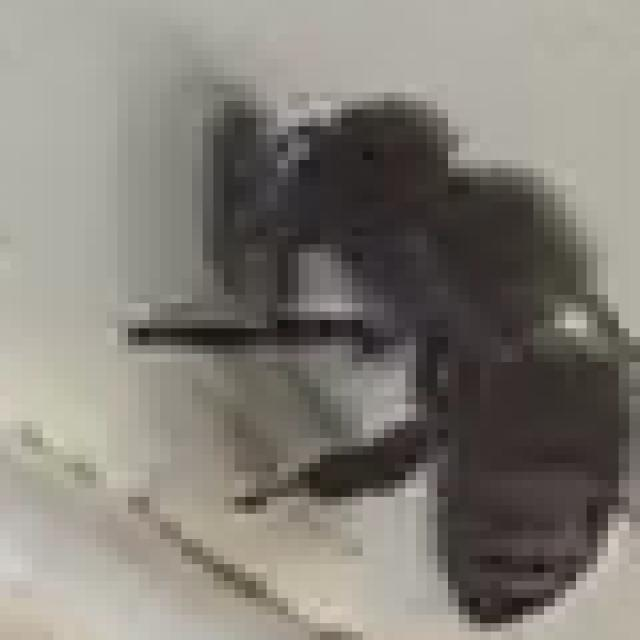honeybee: (128, 95, 604, 616)
